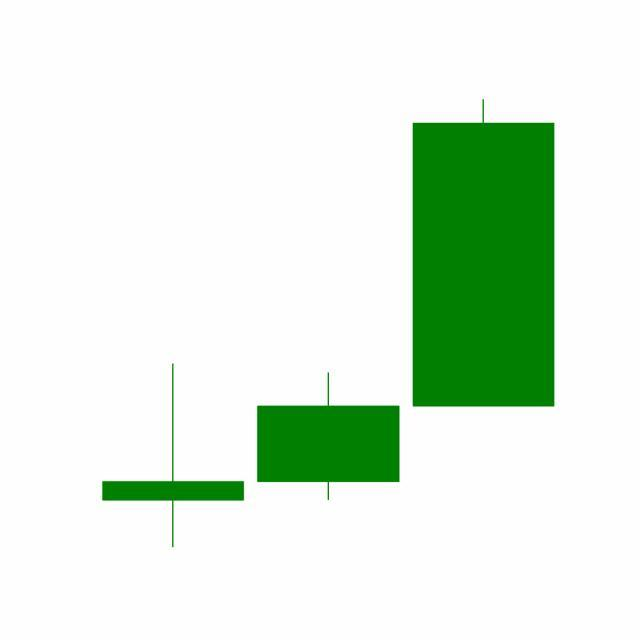Marubozu: (406, 96, 562, 410)
